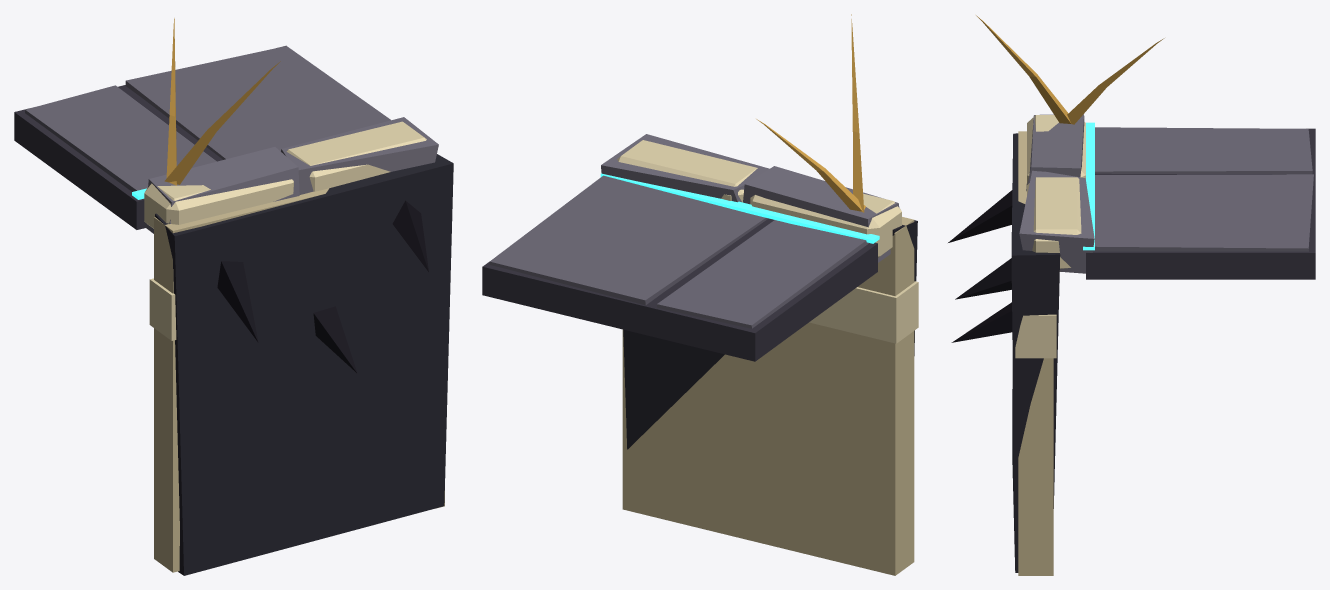
The model's file is bank_straight.glb.
3 views of the same model, side by side, from view 1: azimuth 30°, elevation 25°; view 2: azimuth 150°, elevation 25°; view 3: azimuth 270°, elevation 25° (orthographic). The views are drawn at different scales.
Parts seen in each view (by area): view 1: bank_straight_corrupted, bank_straight_restored; view 2: bank_straight_restored, bank_straight_corrupted; view 3: bank_straight_corrupted, bank_straight_restored.
Part boxes in pixels (<box>): bank_straight_corrupted: <box>14,45,453,575</box>; bank_straight_restored: <box>132,18,444,572</box>; bank_straight_restored: <box>600,14,918,575</box>; bank_straight_corrupted: <box>482,134,917,449</box>; bank_straight_corrupted: <box>948,114,1315,572</box>; bank_straight_restored: <box>976,15,1164,575</box>.
Size of the model in its own units: 1.03 by 1.8 by 1.25.
